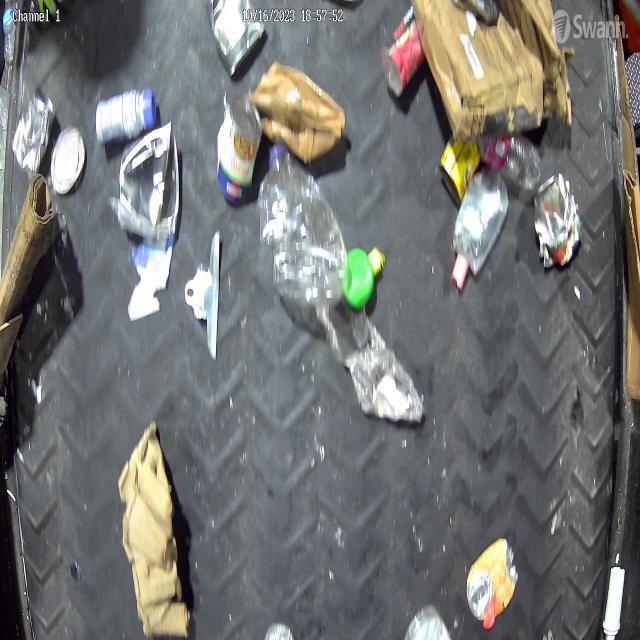can: (119, 120, 179, 236), (216, 94, 262, 203), (533, 175, 581, 268), (466, 538, 519, 622), (210, 0, 265, 77), (12, 84, 56, 180), (441, 135, 479, 205)
plastic_bottle: (258, 143, 348, 304), (452, 174, 508, 290), (479, 119, 542, 190), (404, 603, 452, 640), (3, 0, 16, 62)
